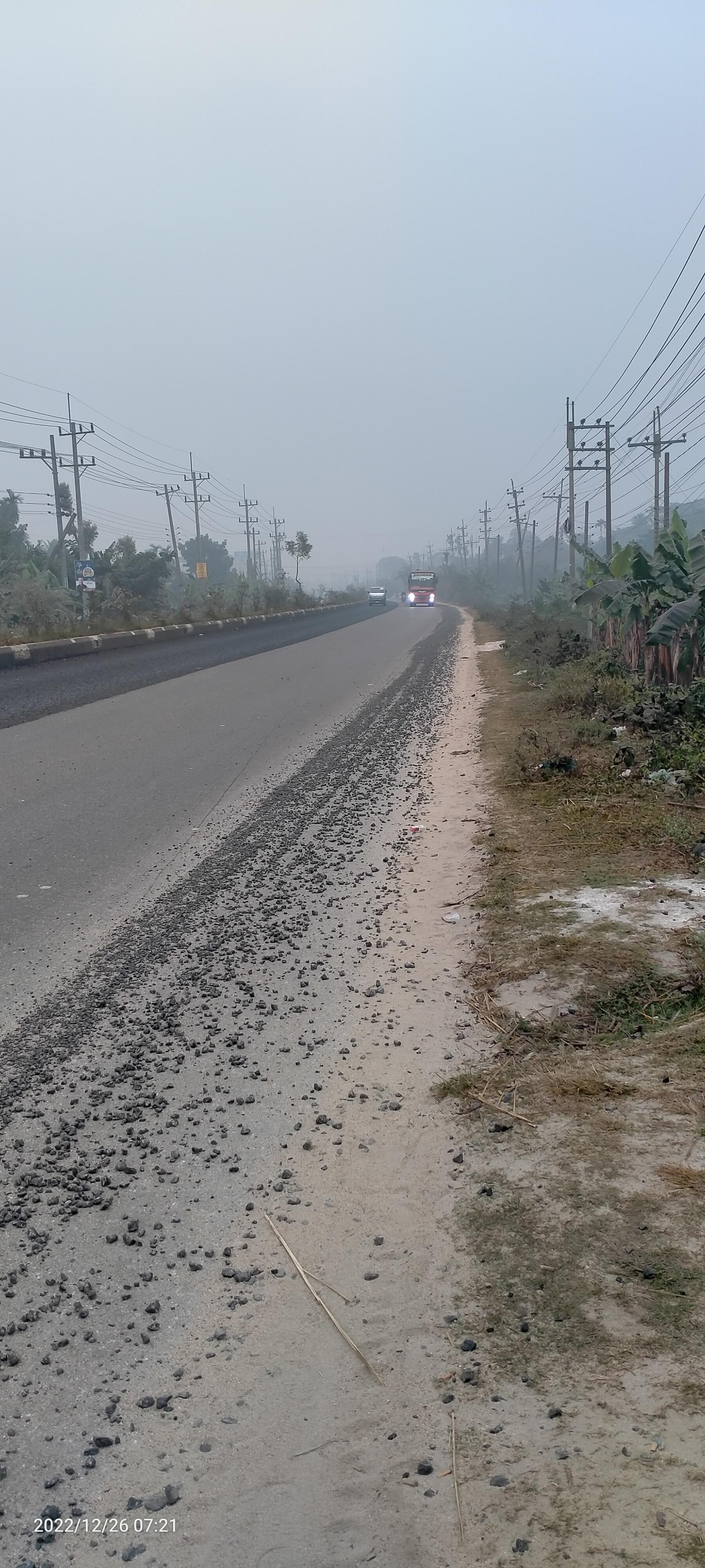Bus: (403, 565, 441, 615)
Car: (359, 575, 395, 608)
